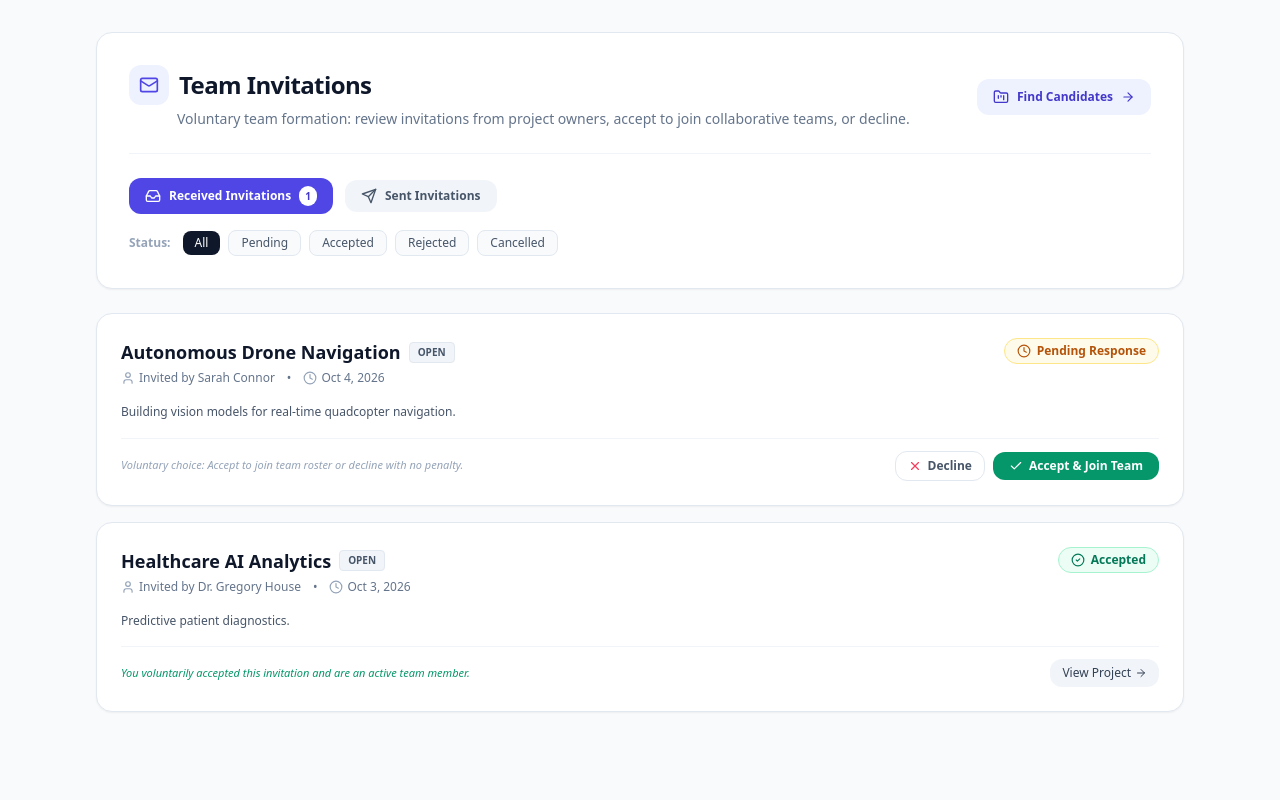
Phase 13: Voluntary Team Formation & Invitations Frontend Tests › 6. switches to Sent Invitations tab and allows cancelling a pending invitation
Check: the text "Received Invitations" is shown, box [169,188,291,204]
# Click Sent Invitations tab
Click the button "Sent Invitations" at (421, 196), box [345,180,497,212]
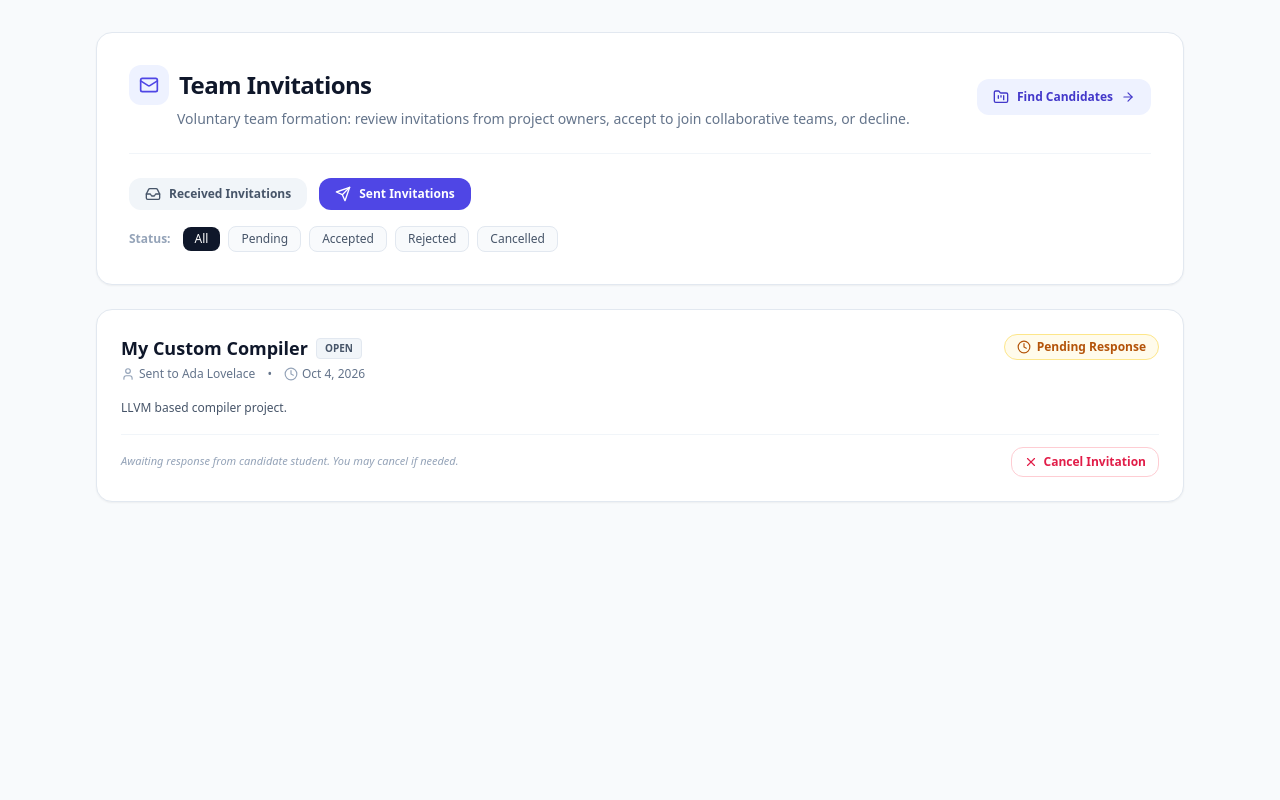
Check: the link "My Custom Compiler" is shown, box [121,334,308,362]
Check: the text "Sent to Ada Lovelace" is shown, box [139,366,255,382]
Check: the button "Cancel Invitation" is shown
# Click cancel button
Click the button "Cancel Invitation" at (1085, 462), box [1010,446,1159,476]
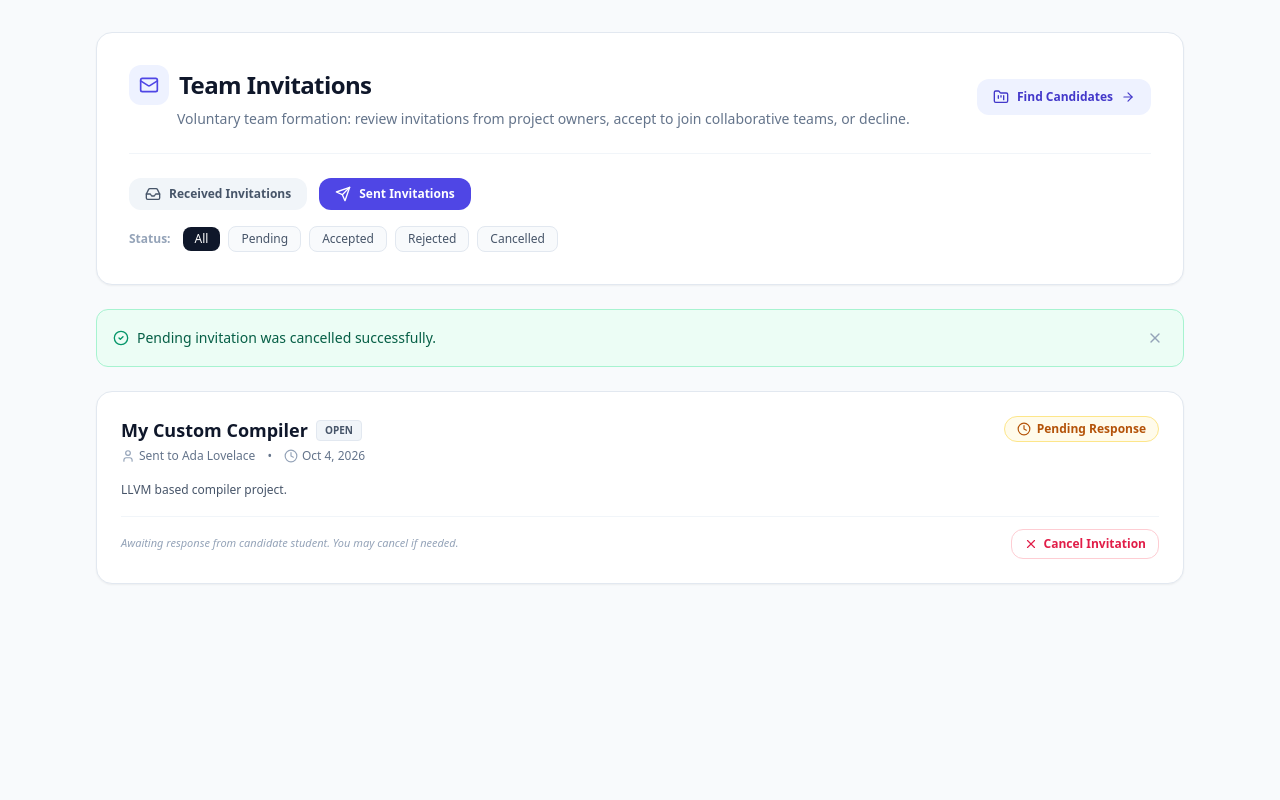
Check: the text "Pending invitation was cancelled successfully." is shown, box [137,328,436,348]
